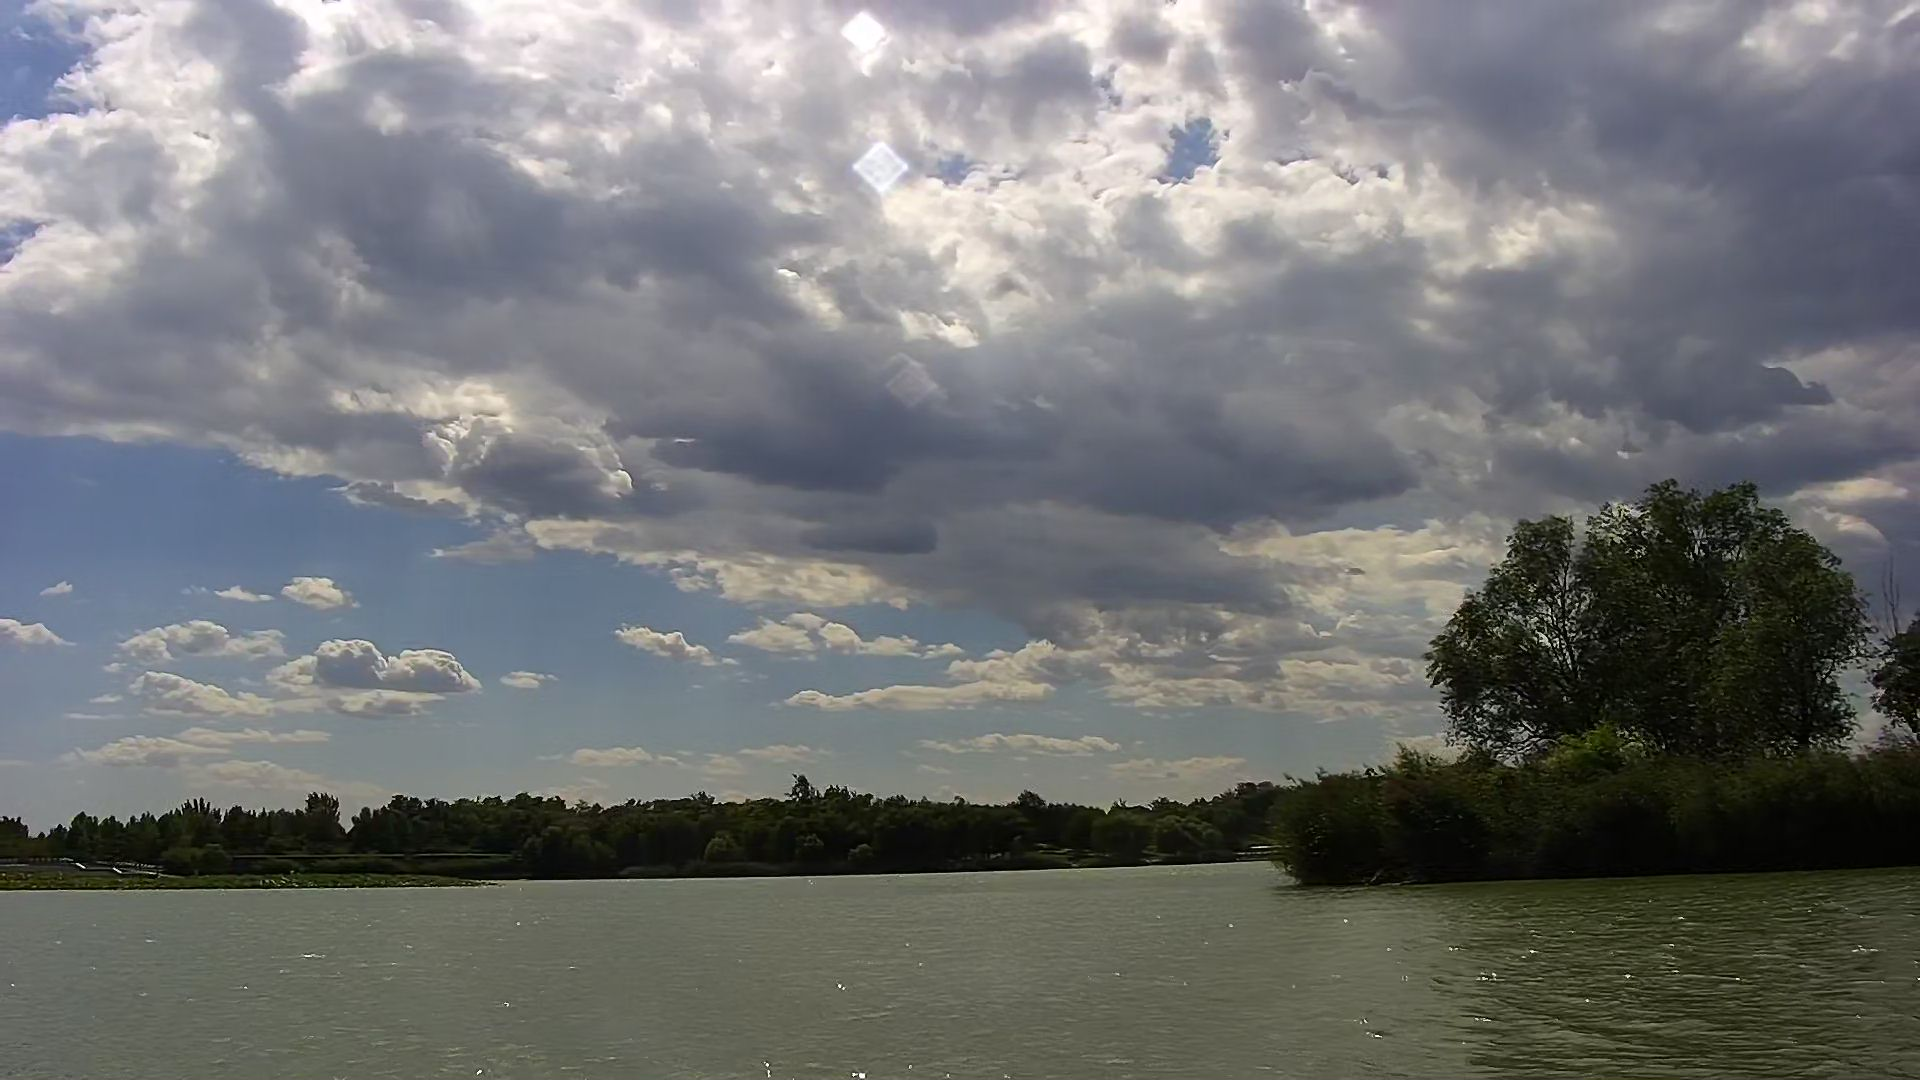grass: (3, 872, 491, 894)
